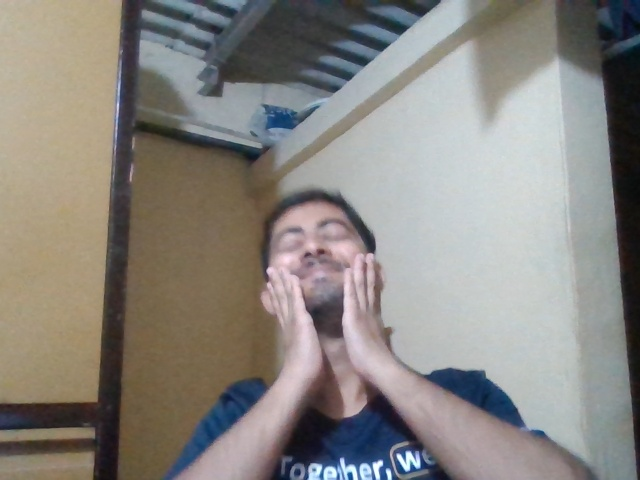ThankYou: (266, 251, 390, 367)
